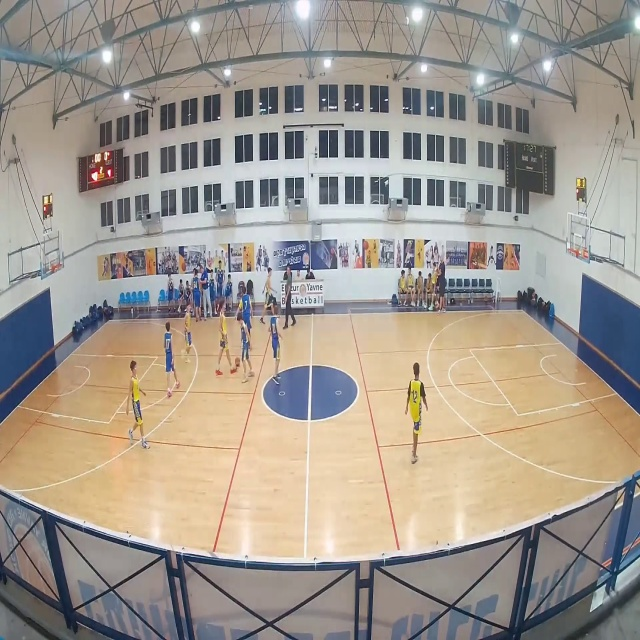Basketball: (235, 358, 240, 367)
